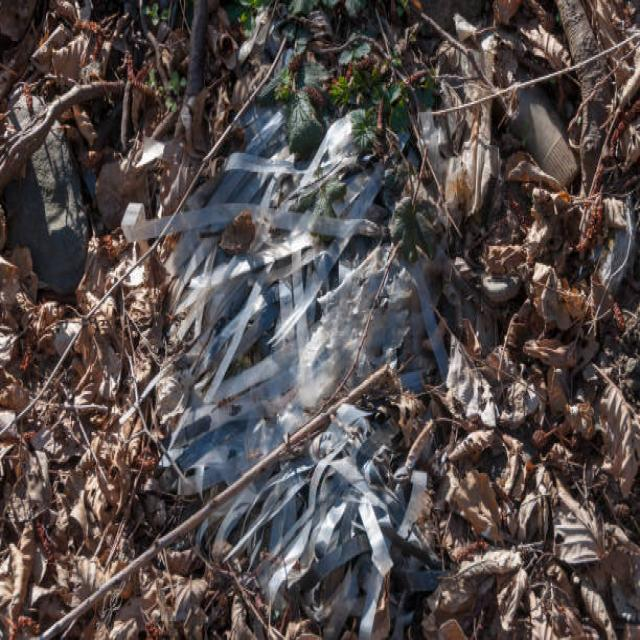plastic: (203, 165, 396, 588)
